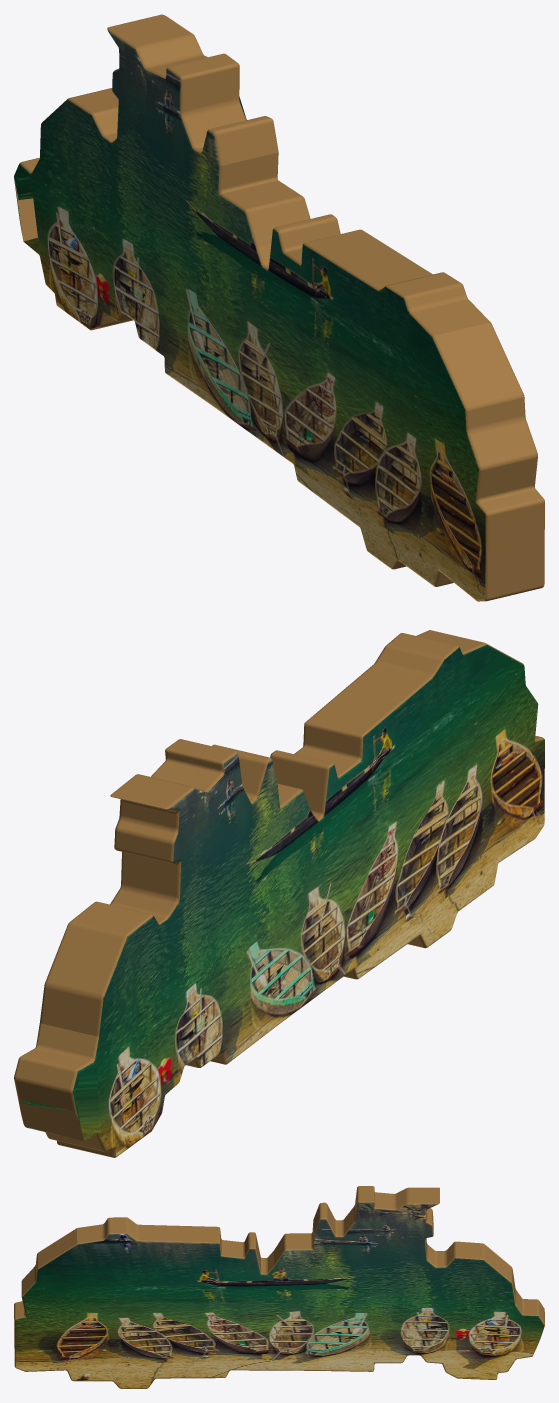
File: meghalaya.glb
The picture shows the model from 3 angles, top to bottom: view 1: azimuth 30°, elevation 25°; view 2: azimuth 150°, elevation 25°; view 3: azimuth 270°, elevation 25°; orthographic projection. The views are drawn at different scales.
Visible parts, largest first — view 1: Object_54; view 2: Object_54; view 3: Object_54.
Boxes of the visible parts, left/top/right/bottom form: Object_54: left=14, top=14, right=544, bottom=601; Object_54: left=14, top=630, right=544, bottom=1157; Object_54: left=14, top=1186, right=544, bottom=1388.
Bounding box in the file's own units: 0.0334 × 0.1667 × 0.4262.
1 material, 1 textured.
